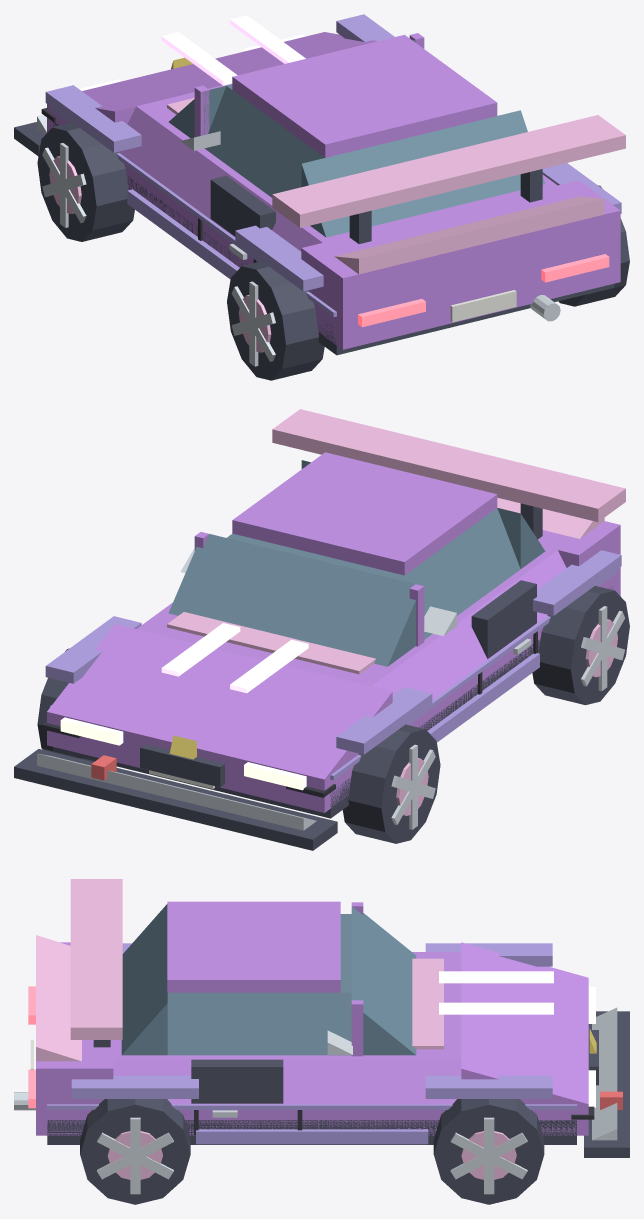
File: apex_arrow.glb
The picture shows the model from 3 angles, top to bottom: view 1: azimuth 30°, elevation 25°; view 2: azimuth 150°, elevation 25°; view 3: azimuth 270°, elevation 25°; orthographic projection. The views are drawn at different scales.
Parts seen in each view (by area): view 1: Roof.278, Tail.078, RearWing.041, Body.278, RearWindow.178, Wheel_RL.238, CabinSideL.075, Wheel_FL.238, Ducktail.058, ShoulderL.075, Nose.075, Arch-1False.154 (+27 smaller); view 2: Nose.075, Roof.278, Windshield.178, RearWing.041, Body.278, Splitter.045, CabinSideL.075, Wheel_FL.238, Wheel_RL.238, ShoulderL.075, BodyUpper.075, Bumper.274 (+23 smaller); view 3: Roof.278, Nose.075, CabinSideR.075, ShoulderR.075, RearWing.041, Windshield.178, Wheel_FR.238, Wheel_RR.238, Body.278, RearWindow.178, Sill.274, Ducktail.058 (+24 smaller).
Boxes of the visible parts, x1,y1,x2,y2 form: Roof.278: (232,35,497,157); Tail.078: (301,180,620,316); RearWing.041: (272,115,625,227); Body.278: (47,104,620,349); RearWindow.178: (301,110,545,237); Wheel_RL.238: (227,261,324,380); CabinSideL.075: (204,86,324,197); Wheel_FL.238: (37,122,134,241); Ducktail.058: (334,196,604,274); ShoulderL.075: (119,106,322,251); Nose.075: (82,32,377,123); Arch-1False.154: (45,85,141,152); Nose.075: (47,624,392,779); Roof.278: (232,452,497,575); Windshield.178: (168,534,415,666); RearWing.041: (272,409,625,521); Body.278: (47,567,620,812); Splitter.045: (14,749,337,850); CabinSideL.075: (399,508,520,639); Wheel_FL.238: (342,724,440,843); Wheel_RL.238: (532,586,629,705); ShoulderL.075: (371,550,566,700); BodyUpper.075: (136,546,557,686); Bumper.274: (37,753,316,830); Roof.278: (167,901,340,992); Nose.075: (461,942,588,1104); CabinSideR.075: (167,992,351,1055); ShoulderR.075: (113,1059,461,1104); RearWing.041: (70,879,122,1039); Windshield.178: (351,906,416,1055); Wheel_FR.238: (433,1099,544,1204); Wheel_RR.238: (80,1099,190,1204); Body.278: (36,1104,588,1135); RearWindow.178: (121,904,167,1055); Sill.274: (47,1120,576,1144); Ducktail.058: (36,935,81,1061).
Size of the model in its own units: 3.3 by 1.78 by 5.35.
